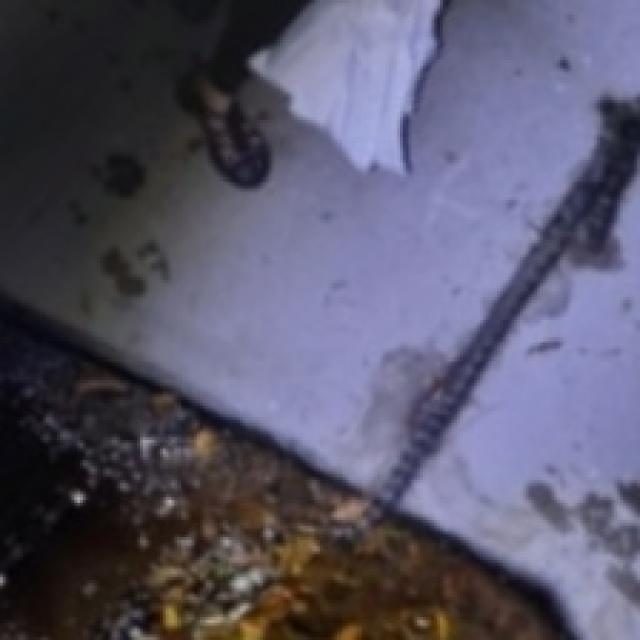king cobra: (374, 97, 637, 506)
